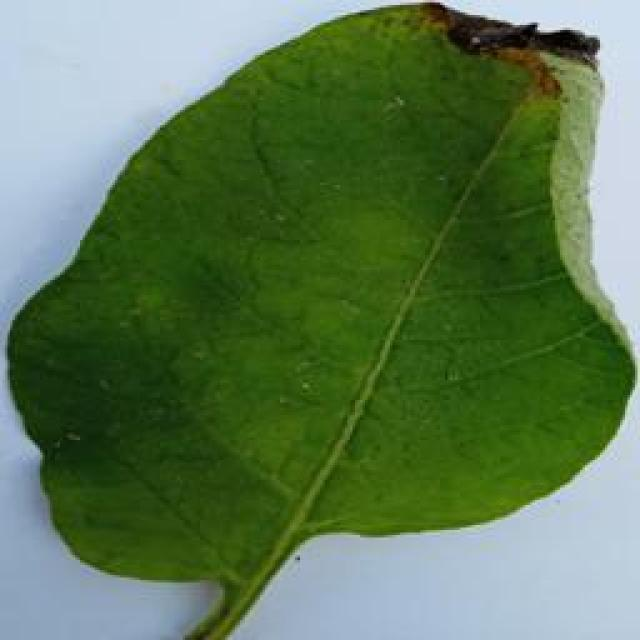Potato_Late_Blight: (10, 5, 623, 632)
